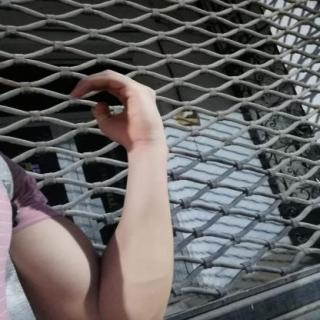JEEM: (58, 62, 176, 150)
